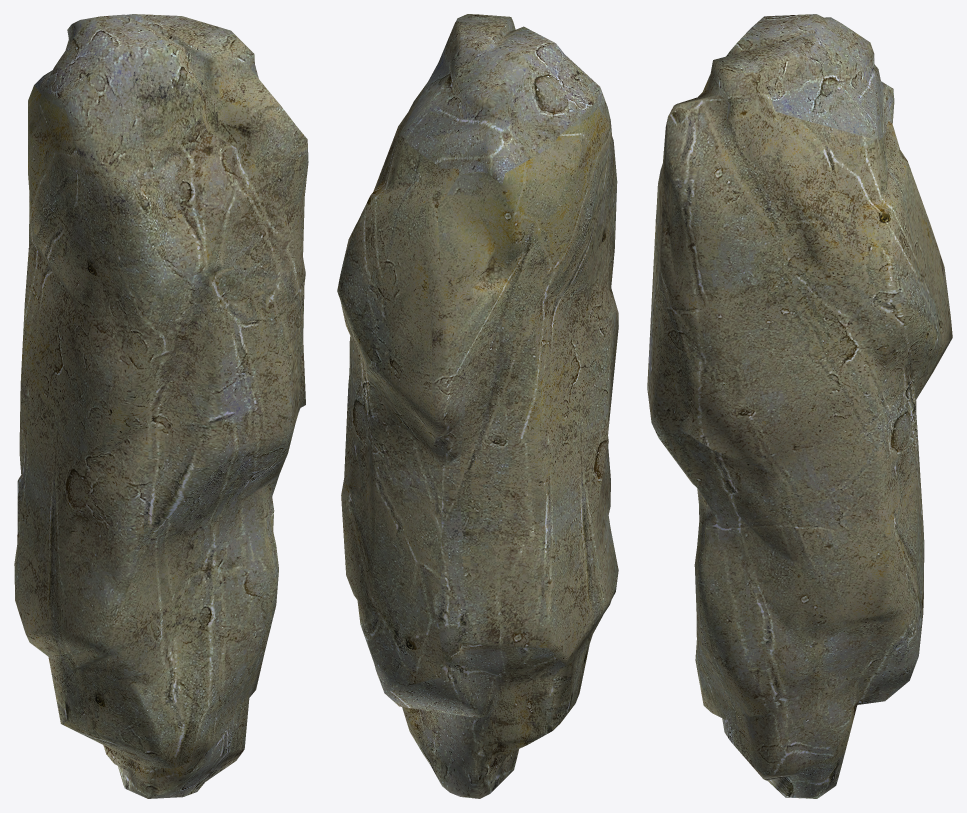
Rendered from cliff1_root.fbx.
The picture shows the model from 3 angles, left to right: view 1: azimuth 30°, elevation 25°; view 2: azimuth 150°, elevation 25°; view 3: azimuth 270°, elevation 25°; orthographic projection. The views are drawn at different scales.
Parts seen in each view (by area): view 1: cliff1_sh_2, cliff1_sh_6, cliff1_sh_5, cliff1_sh_1, cliff1_sh_9, cliff1_sh_8, cliff1_sh_4, cliff1_sh_3; view 2: cliff1_sh_8, cliff1_sh_3, cliff1_sh_6, cliff1_sh_7, cliff1_sh_4, cliff1_sh_5, cliff1_sh_1, cliff1_sh_2, cliff1_sh_9; view 3: cliff1_sh_9, cliff1_sh_2, cliff1_sh_5, cliff1_sh_7, cliff1_sh_3, cliff1_sh_4, cliff1_sh_8, cliff1_sh_1.
Part boxes in pixels (x1,y1,x2,y2): cliff1_sh_2: (66, 15, 308, 302); cliff1_sh_6: (14, 334, 226, 580); cliff1_sh_5: (28, 75, 304, 385); cliff1_sh_1: (14, 558, 268, 768); cliff1_sh_9: (171, 318, 305, 633); cliff1_sh_8: (20, 173, 90, 408); cliff1_sh_4: (14, 584, 269, 798); cliff1_sh_3: (28, 14, 167, 140); cliff1_sh_8: (337, 208, 603, 535); cliff1_sh_3: (354, 38, 580, 261); cliff1_sh_6: (445, 280, 618, 623); cliff1_sh_7: (341, 497, 523, 706); cliff1_sh_4: (401, 614, 576, 798); cliff1_sh_5: (341, 92, 617, 298); cliff1_sh_1: (546, 516, 618, 700); cliff1_sh_2: (383, 14, 609, 164); cliff1_sh_9: (341, 356, 417, 516); cliff1_sh_9: (647, 333, 920, 646); cliff1_sh_2: (656, 15, 841, 320); cliff1_sh_5: (650, 179, 906, 370); cliff1_sh_7: (727, 478, 924, 706); cliff1_sh_3: (789, 14, 922, 271); cliff1_sh_4: (703, 645, 880, 798); cliff1_sh_8: (846, 200, 952, 464); cliff1_sh_1: (695, 598, 713, 704).
Size of the model in its own units: 30.83 by 106 by 39.54.
Materials: 1 (1 with a texture image).
